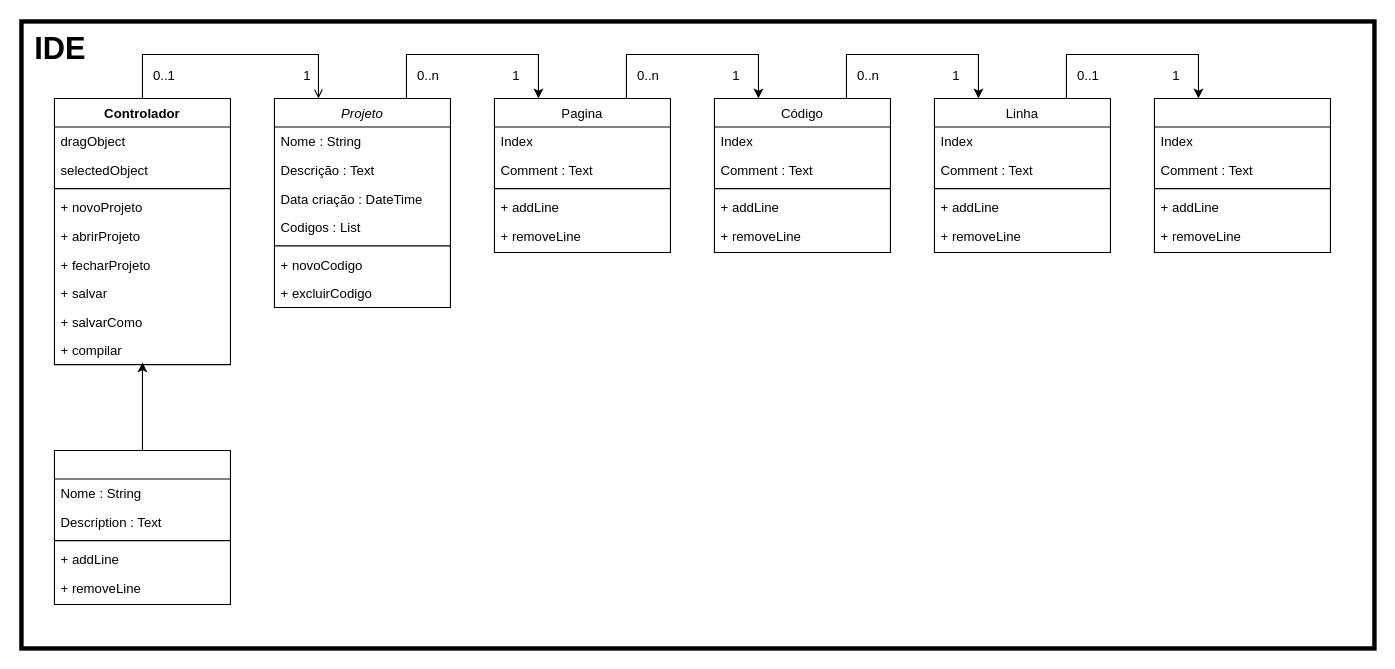
This 1395x669 diagram has some shape labels left out. Each missing label, with the box of its shape:
Caixa de ferramentas: (53, 449, 230, 604)
Objeto: (1153, 97, 1330, 252)
